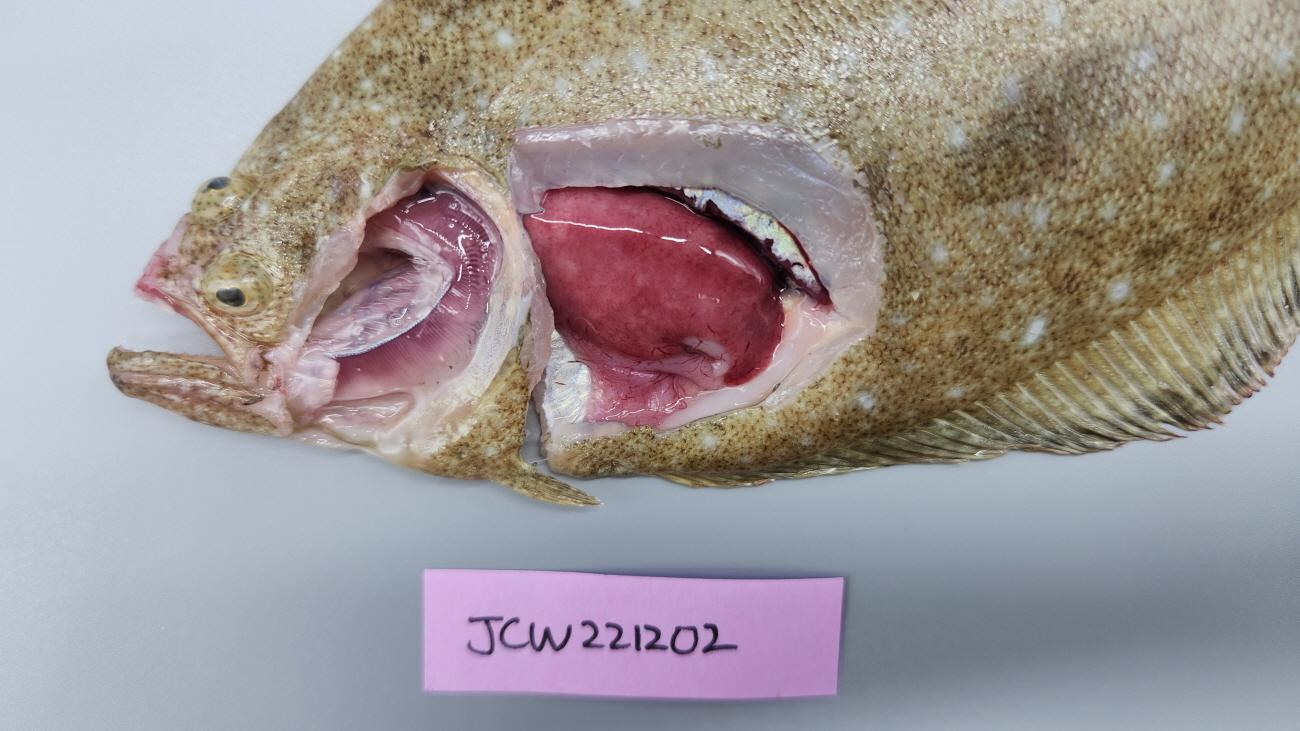VILIC: (546, 228, 782, 386)
